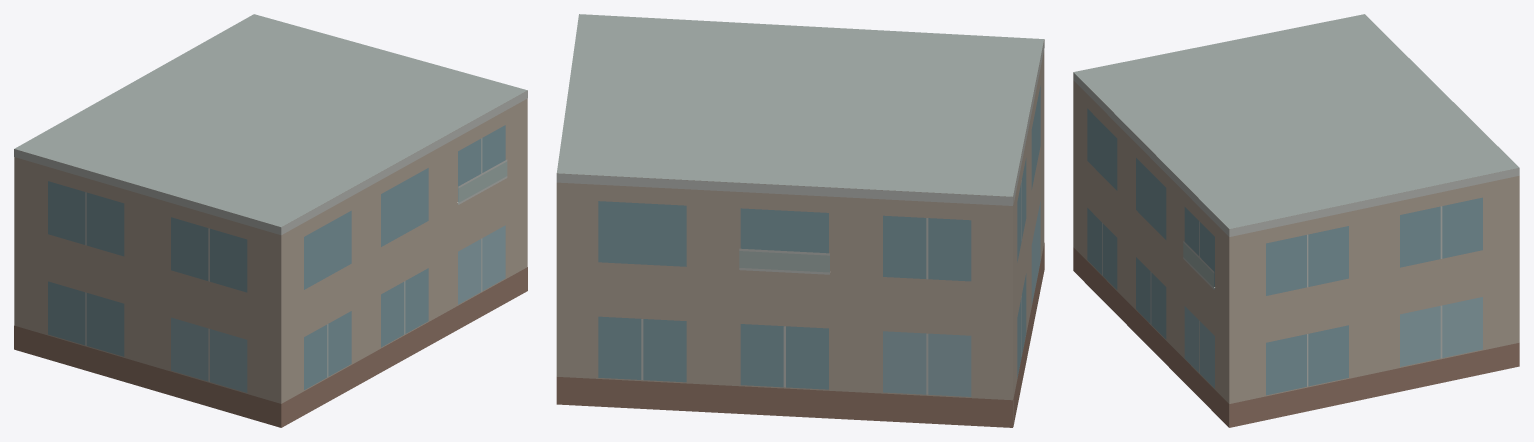
File: survey-upis-32752153.glb
3 renders of one model, left to right at view 1: azimuth 30°, elevation 25°; view 2: azimuth 150°, elevation 25°; view 3: azimuth 270°, elevation 25°, orthographic. The views are drawn at different scales.
Visible parts, largest first — view 1: survey-upis-32752153.tmp; view 2: survey-upis-32752153.tmp; view 3: survey-upis-32752153.tmp.
Boxes of the visible parts, bbox=[...] form: survey-upis-32752153.tmp: bbox=[14, 14, 527, 427]; survey-upis-32752153.tmp: bbox=[556, 14, 1044, 427]; survey-upis-32752153.tmp: bbox=[1073, 14, 1519, 427].
Bounding box in the file's own units: 14.18 × 6.1 × 12.43.
